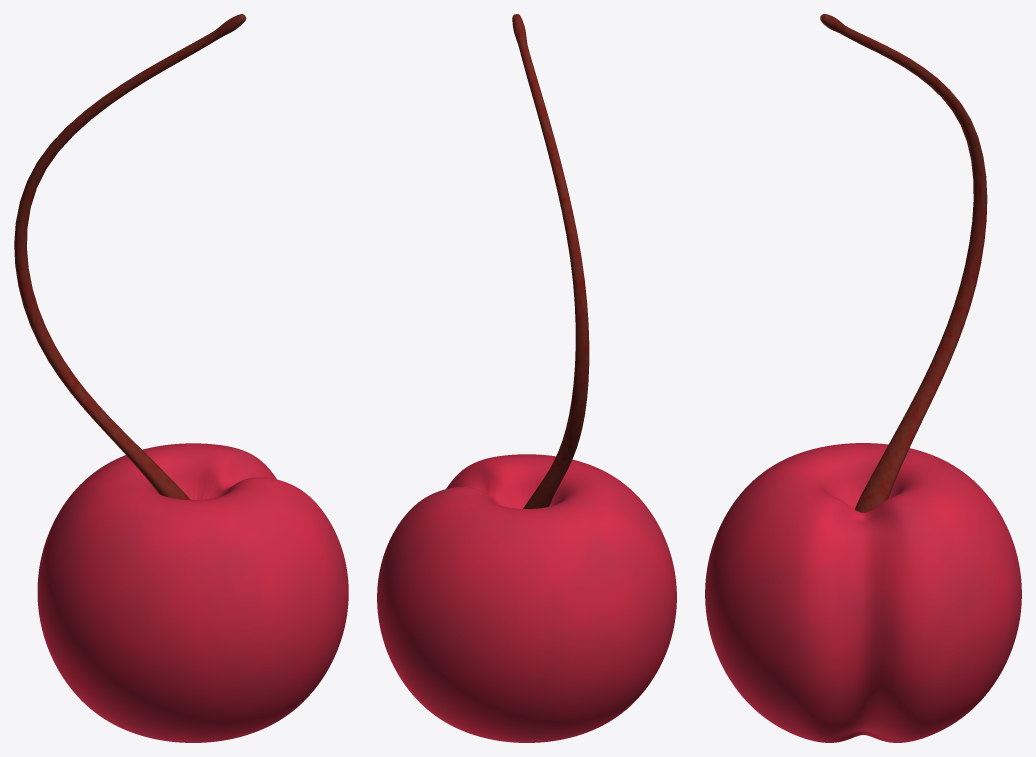
Rendered from cherry.glb.
The picture shows the model from 3 angles, left to right: view 1: azimuth 30°, elevation 25°; view 2: azimuth 150°, elevation 25°; view 3: azimuth 270°, elevation 25°; orthographic projection. The views are drawn at different scales.
Visible parts, largest first — view 1: cherry_body, cherry_edge; view 2: cherry_body, cherry_edge; view 3: cherry_body, cherry_edge.
Part boxes in pixels (x1,y1,x2,y2): cherry_body: (37, 443, 348, 742); cherry_edge: (14, 14, 246, 499); cherry_body: (377, 454, 676, 742); cherry_edge: (512, 14, 589, 508); cherry_body: (705, 443, 1021, 742); cherry_edge: (820, 14, 987, 512).
Bounding box in the file's own units: 0.7043 × 1.84 × 0.7331.
2 materials, 2 textured.
